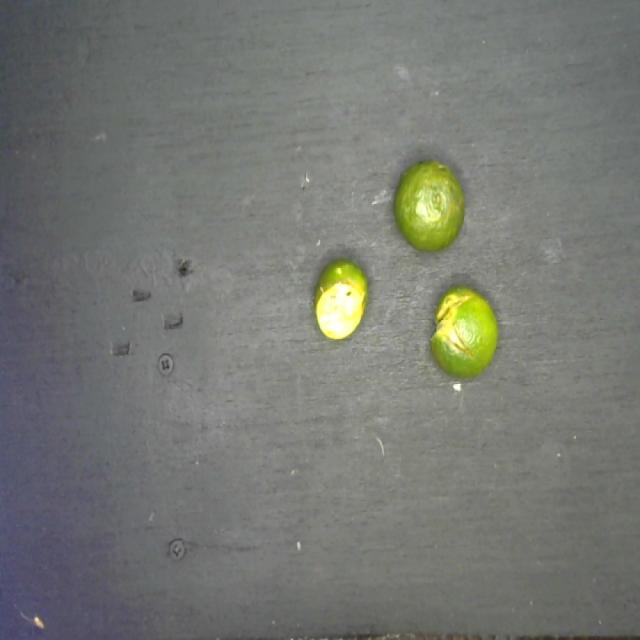biodegradable: (308, 152, 505, 380)
